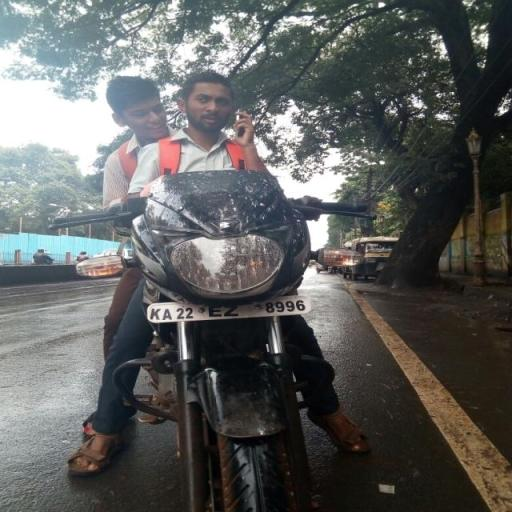bike: (47, 66, 384, 500)
numberplate: (146, 297, 308, 321)
using mobile: (230, 107, 256, 147)
withouthelmet: (103, 71, 171, 144), (182, 72, 232, 134)
